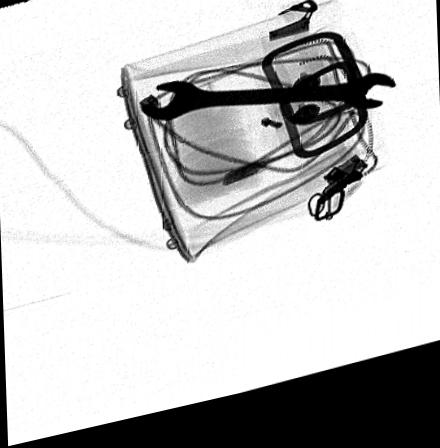Wrench: (136, 88, 394, 130)
